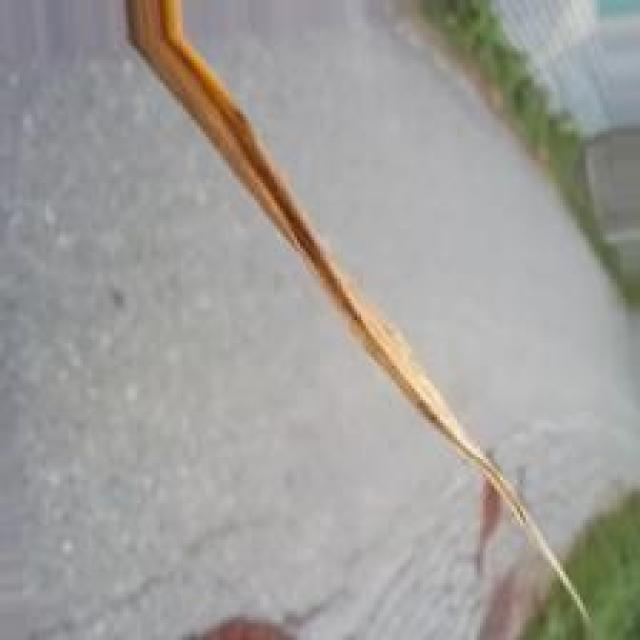Leaf_Scald: (128, 3, 459, 445)
